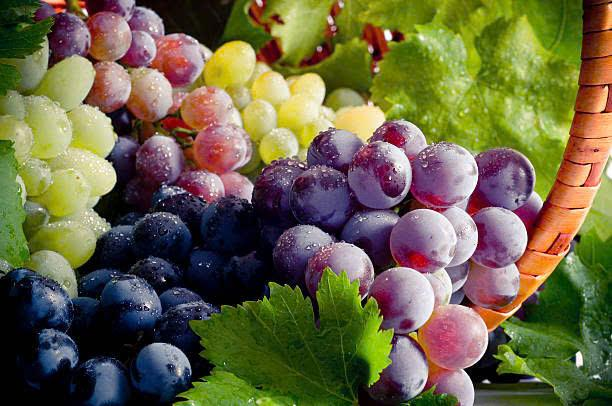grape: (258, 123, 567, 394), (40, 189, 246, 406), (76, 5, 299, 181), (2, 23, 115, 281), (191, 45, 405, 165)
